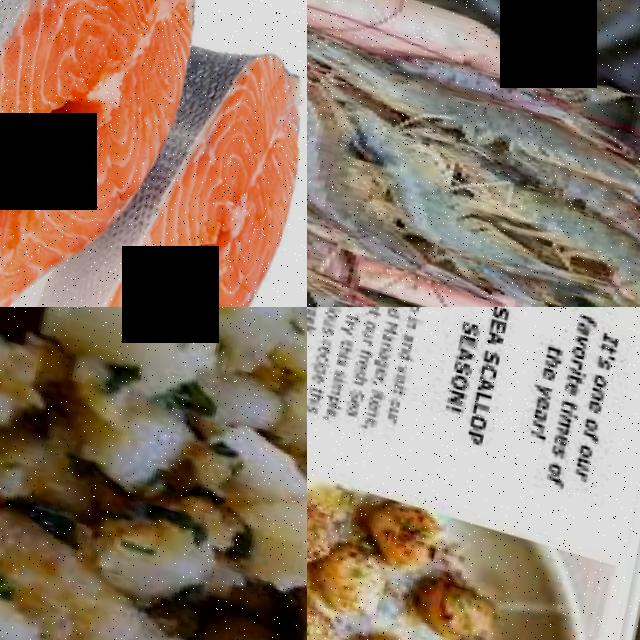salmon: (0, 0, 224, 261), (108, 22, 307, 307)
sea scallops: (409, 566, 505, 640), (314, 532, 392, 618), (307, 483, 341, 572), (307, 593, 349, 640), (344, 623, 430, 640)
shrimp: (334, 49, 640, 192), (325, 102, 536, 265), (432, 133, 640, 295), (380, 34, 607, 128), (307, 57, 355, 215)
